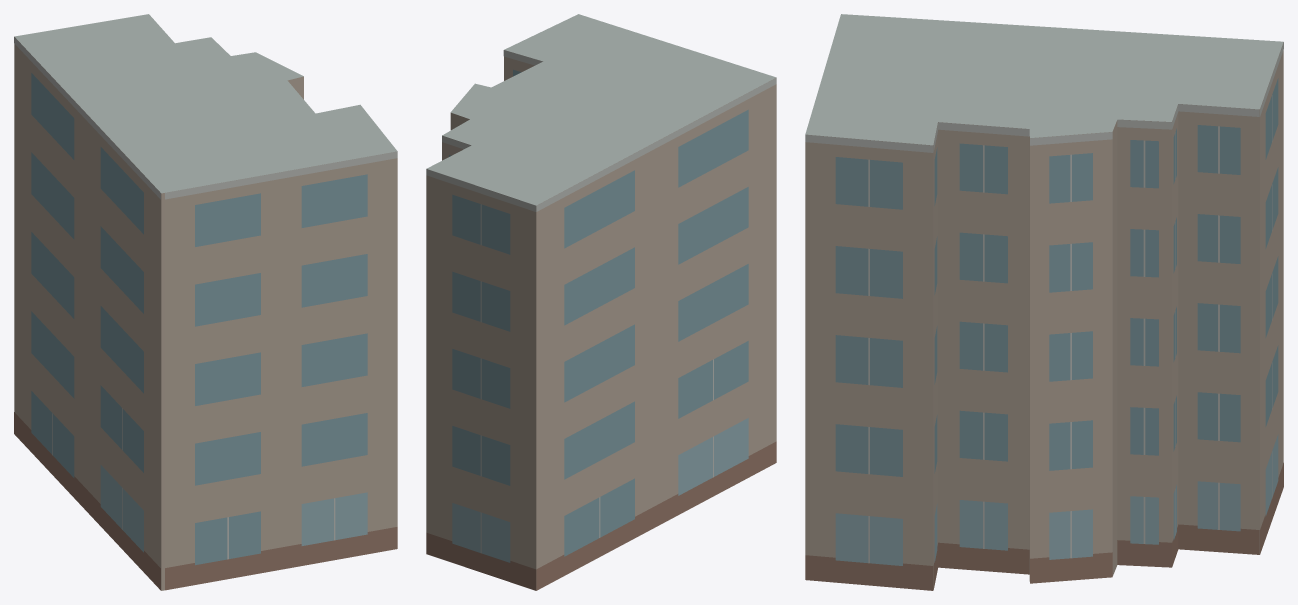
File: survey-upis-32470765.glb
3 views of the same model, side by side, from view 1: azimuth 30°, elevation 25°; view 2: azimuth 150°, elevation 25°; view 3: azimuth 270°, elevation 25° (orthographic). The views are drawn at different scales.
Parts seen in each view (by area): view 1: survey-upis-32470765.tmp; view 2: survey-upis-32470765.tmp; view 3: survey-upis-32470765.tmp.
Part boxes in pixels (x1=…): survey-upis-32470765.tmp: x1=14, y1=14, x2=397, y2=590; survey-upis-32470765.tmp: x1=426, y1=14, x2=776, y2=590; survey-upis-32470765.tmp: x1=805, y1=14, x2=1283, y2=590.
Size of the model in its own units: 9.09 by 14.35 by 13.98.
